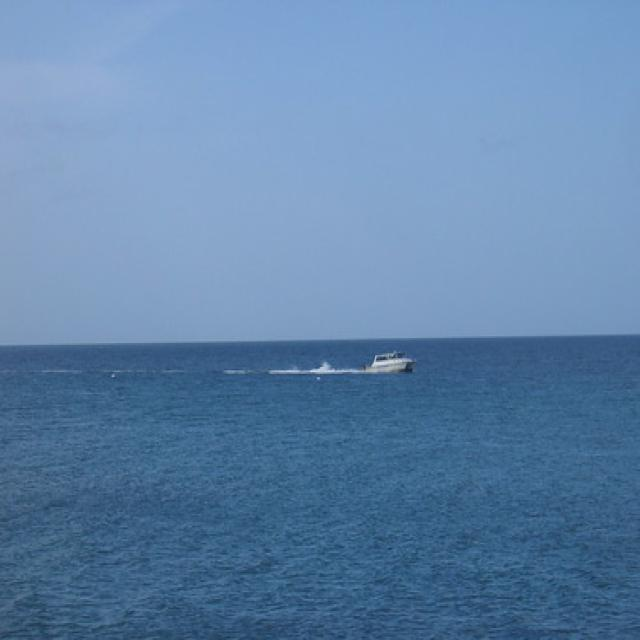houseboat: (359, 344, 420, 376)
